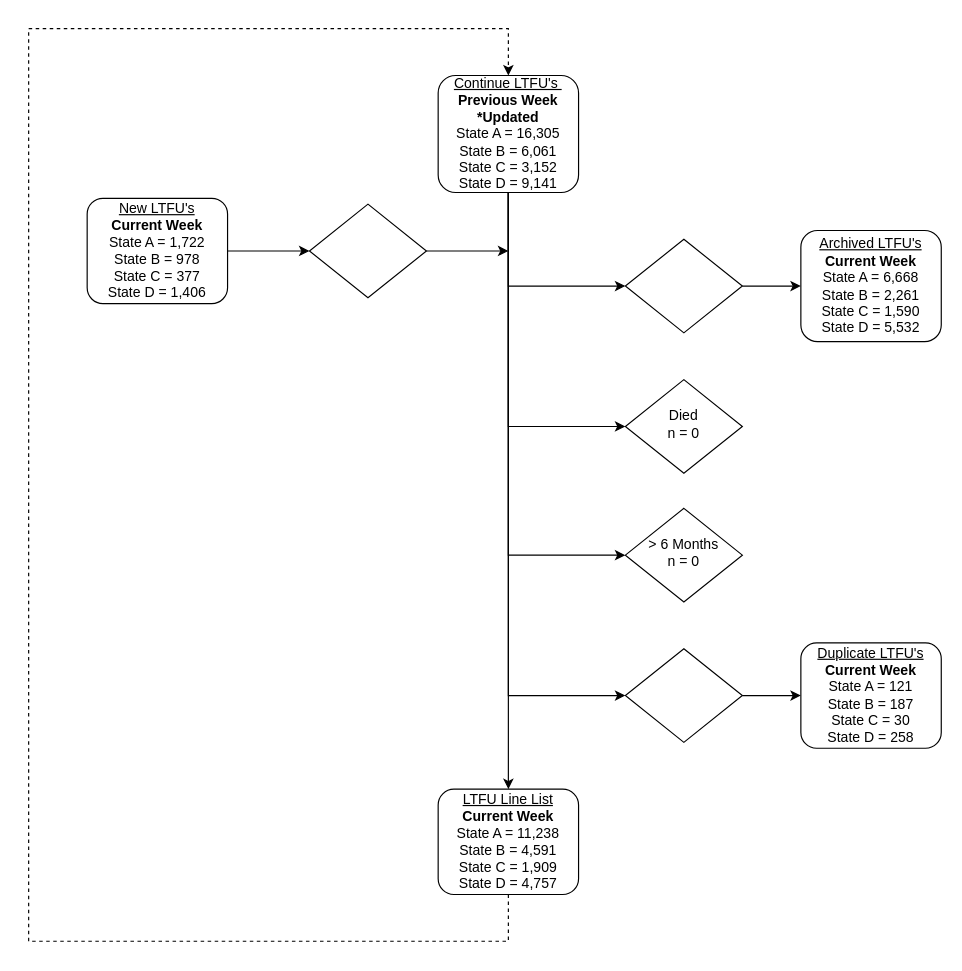
Image size: 962x971. Some labels were removed from this diagram. The shapes that lost their labels are listed below. From the top down, each one's centre as x and y in pixels, then its label:
At (367,250): "New LTFU's n = 4,480".
At (683,285): "Returned n = 16,051".
At (683,695): "Duplicates n = 596".
